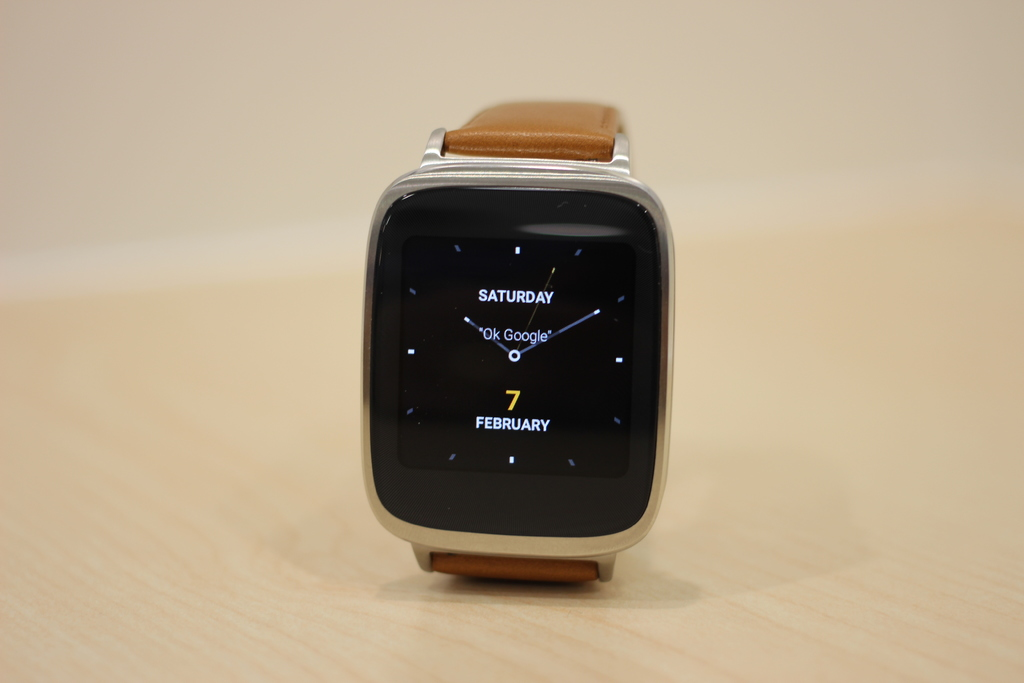watch: (343, 101, 683, 601)
